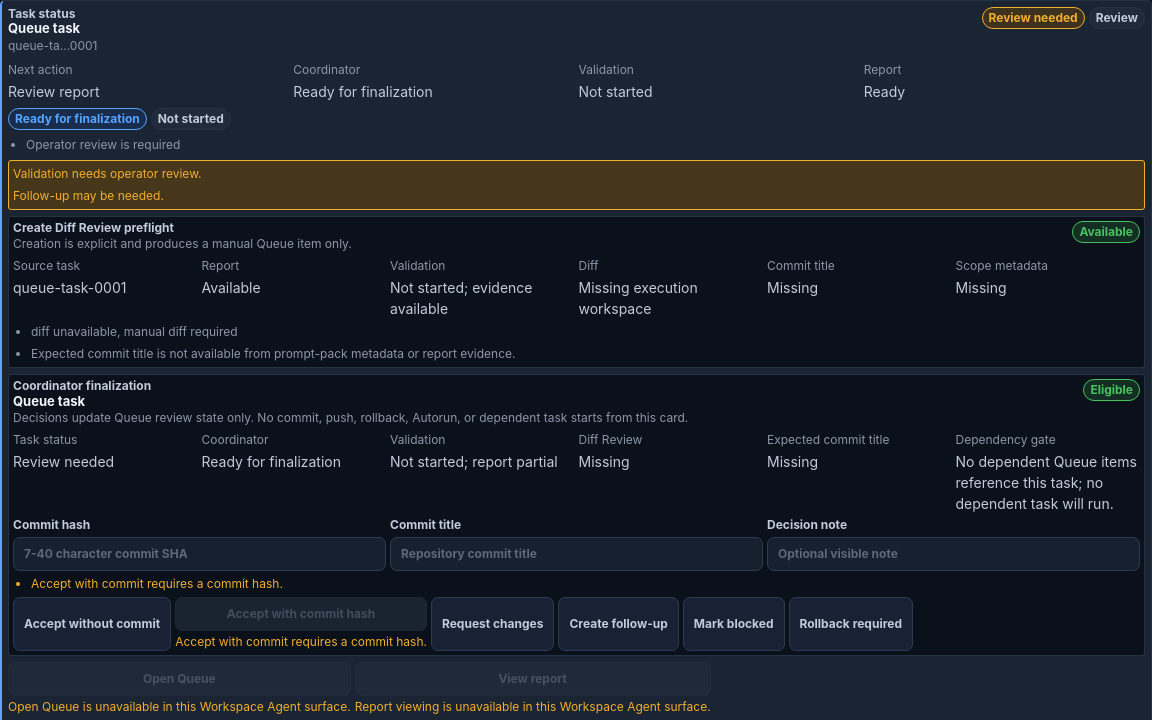
Test: WorkspaceAgentQueueTaskStatusCard › accept_without_commit requires confirmation before applying
Click the button "Accept without commit" at (92, 624), box 13,597 -> 171,651
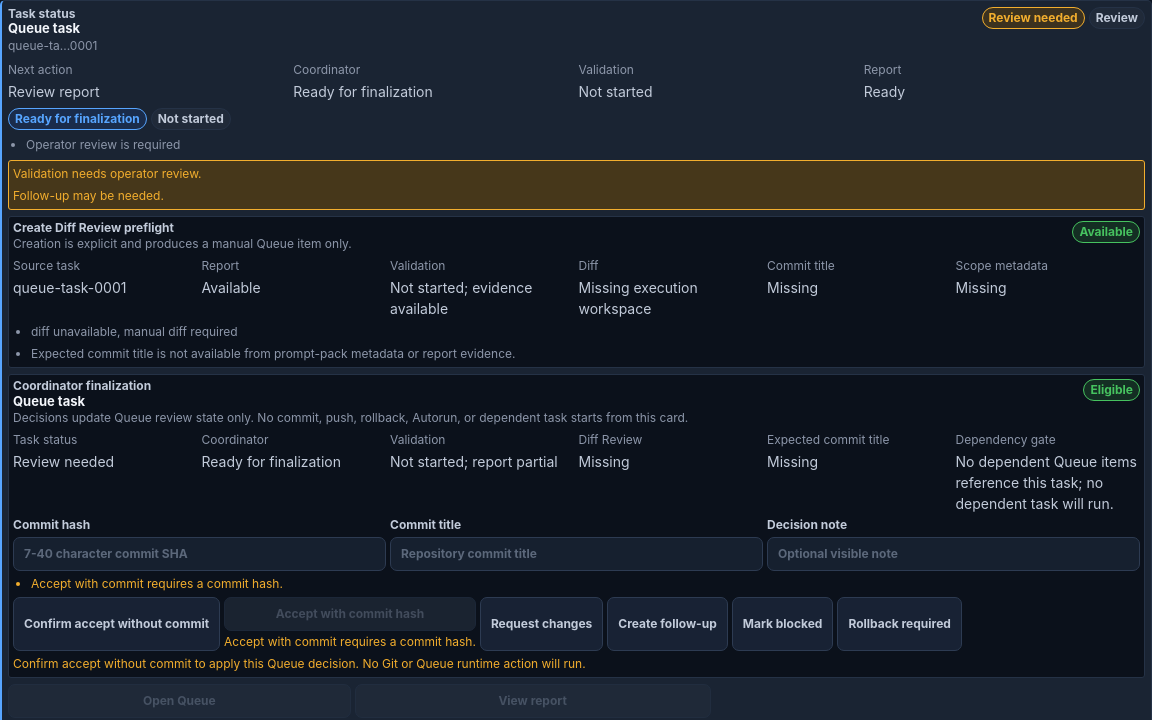
Expected: the text "Confirm accept without commit to apply this Queue decision." is shown, 13,656 -> 586,671
Click the button "Confirm accept without commit" at (116, 624), box 13,597 -> 220,651
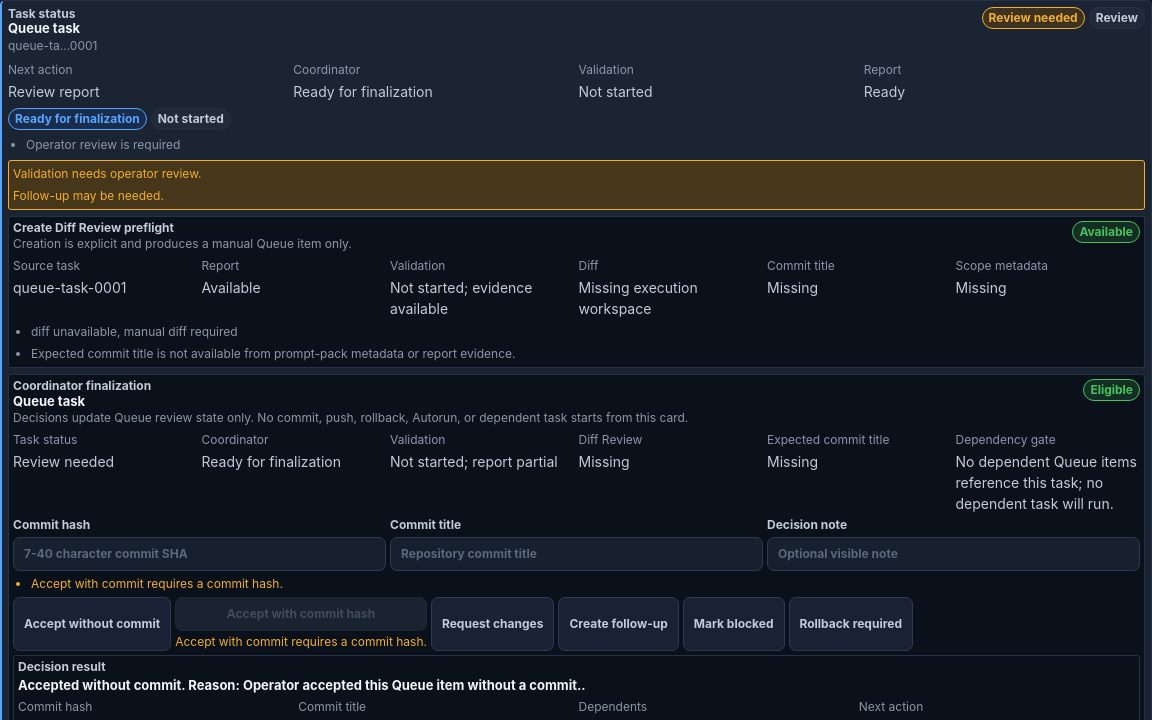
Expected: the text "Accepted without commit" is shown, 18,677 -> 586,693
